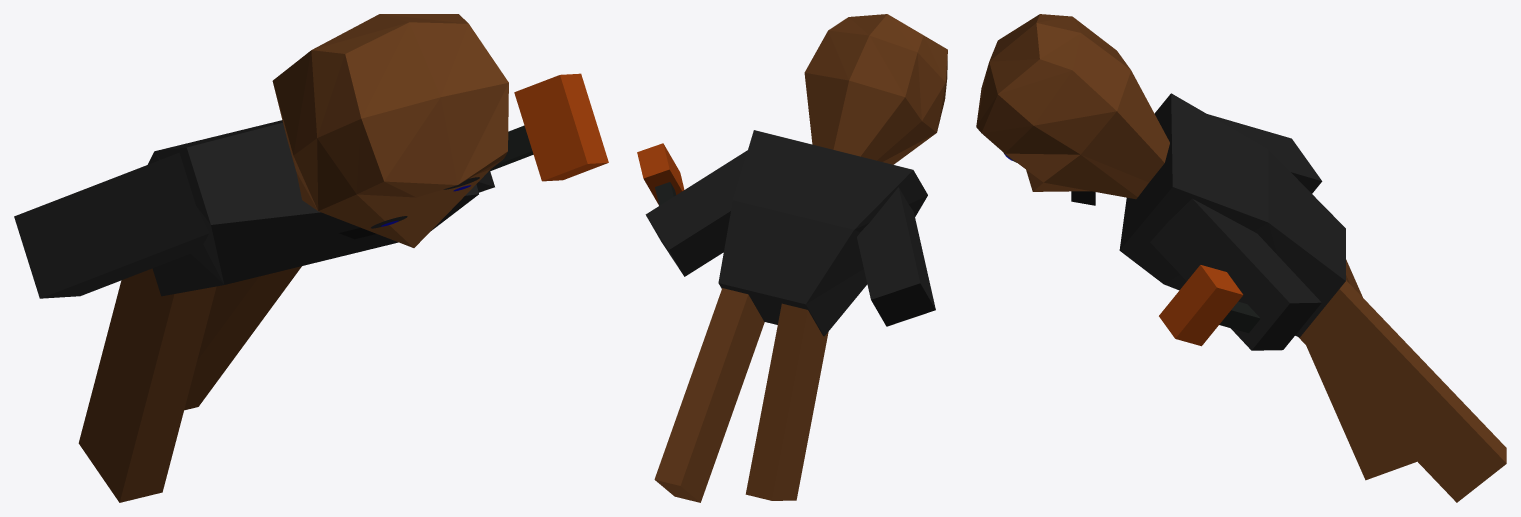
File: servant2d.obj
3 renders of one model, left to right at view 1: azimuth 30°, elevation 25°; view 2: azimuth 150°, elevation 25°; view 3: azimuth 270°, elevation 25°, orthographic. The views are drawn at different scales.
Visible parts, largest first — view 1: Cube, Cube.001, Cube.004, Cube.003, Cube.008, Cube.005, Cube.007; view 2: Cube.001, Cube, Cube.005, Cube.004, Cube.003, Cube.002, Cube.008; view 3: Cube, Cube.001, Cube.005, Cube.002, Cube.004, Cube.008, Cube.003, Cube.007.
Boxes of the visible parts, box(x1,y1,x2,y2) form: Cube: box(272, 14, 508, 247); Cube.001: box(148, 120, 478, 296); Cube.004: box(78, 268, 216, 502); Cube.003: box(14, 152, 208, 298); Cube.008: box(514, 73, 608, 181); Cube.005: box(184, 266, 301, 410); Cube.007: box(488, 125, 533, 171); Cube.001: box(718, 130, 927, 336); Cube: box(804, 14, 947, 164); Cube.005: box(654, 288, 764, 502); Cube.004: box(745, 303, 828, 500); Cube.003: box(857, 187, 935, 326); Cube.002: box(645, 150, 747, 276); Cube.008: box(637, 143, 684, 205); Cube: box(976, 14, 1169, 199); Cube.001: box(1119, 93, 1345, 337); Cube.005: box(1298, 280, 1506, 502); Cube.002: box(1150, 198, 1321, 350); Cube.004: box(1306, 259, 1416, 480); Cube.008: box(1159, 265, 1242, 346); Cube.003: box(1207, 114, 1322, 193); Cube.007: box(1219, 301, 1260, 333).
Size of the model in its own units: 4.16 by 4.8 by 4.94.
